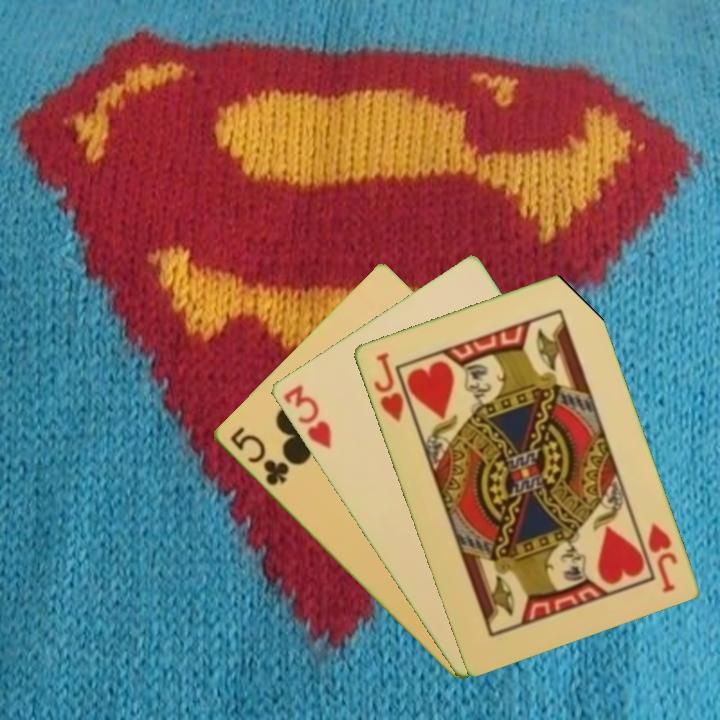3h: (279, 381, 334, 452)
5c: (226, 423, 292, 489)
Jh: (369, 348, 417, 426), (643, 519, 680, 595)
